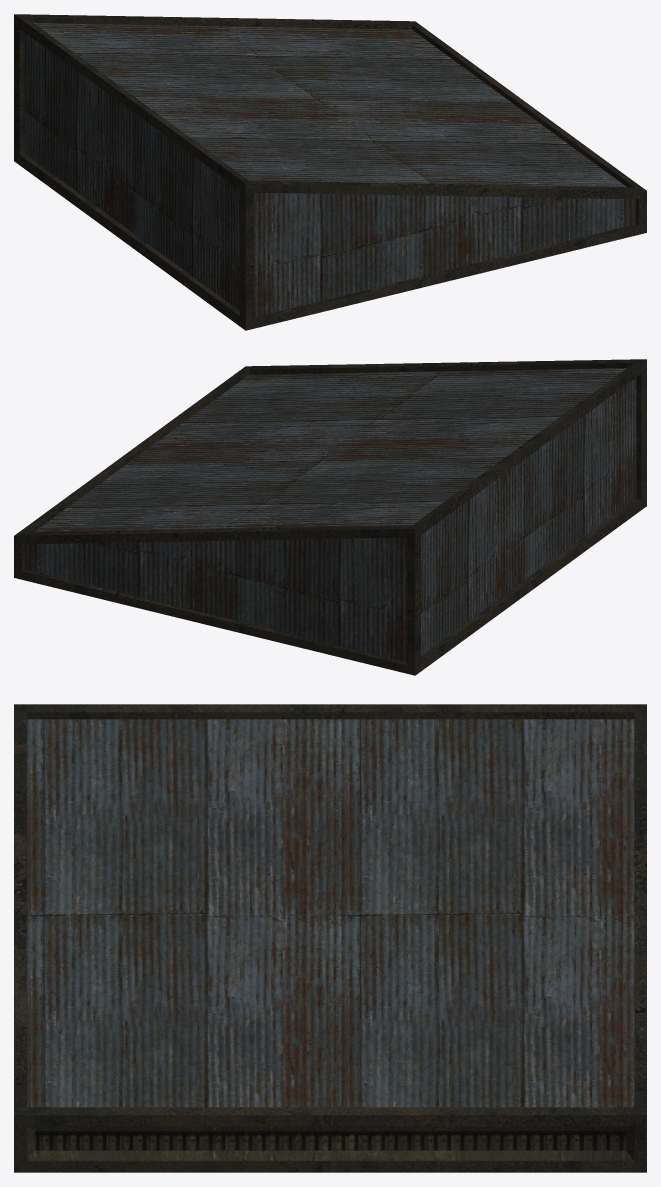
The model's file is roof_mh_1.fbx.
The picture shows the model from 3 angles, top to bottom: view 1: azimuth 30°, elevation 25°; view 2: azimuth 150°, elevation 25°; view 3: azimuth 270°, elevation 25°; orthographic projection. The views are drawn at different scales.
Parts seen in each view (by area): view 1: roof_mh_1; view 2: roof_mh_1; view 3: roof_mh_1.
Boxes of the visible parts, left/top/right/bottom form: roof_mh_1: left=14, top=14, right=646, bottom=330; roof_mh_1: left=14, top=359, right=646, bottom=675; roof_mh_1: left=14, top=704, right=646, bottom=1172.
Bounding box in the file's own units: 4 × 4 × 1.4.
